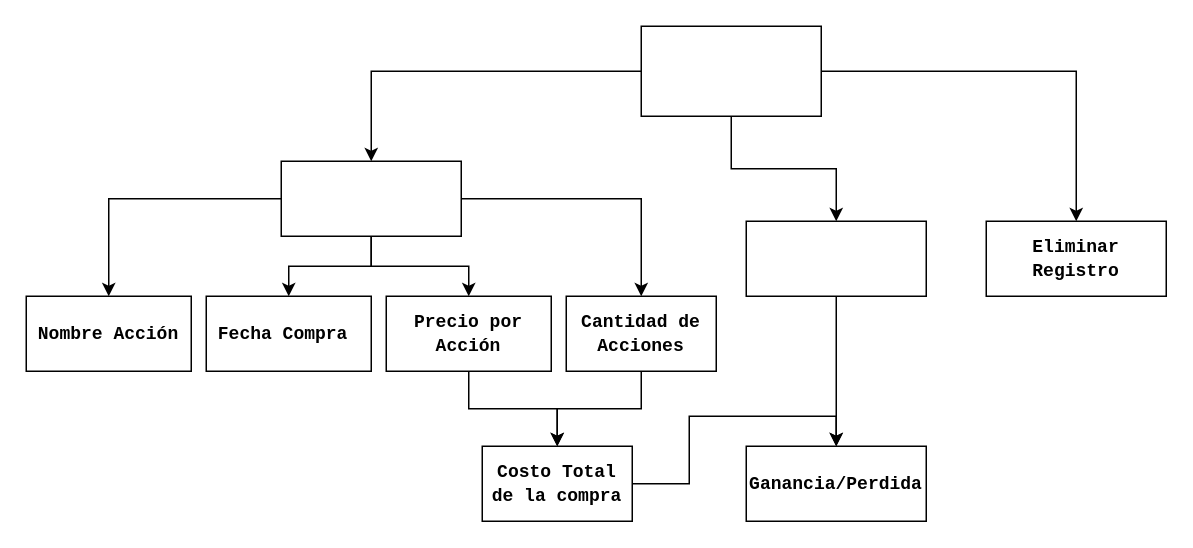
This 1193x548 diagram has some shape labels left out. Each missing label, with the box of its shape:
Mis acciones: (640, 25, 821, 116)
Porcentaje de Cambio: (745, 220, 926, 296)
Registrar Nuevas acciones: (280, 160, 461, 236)
